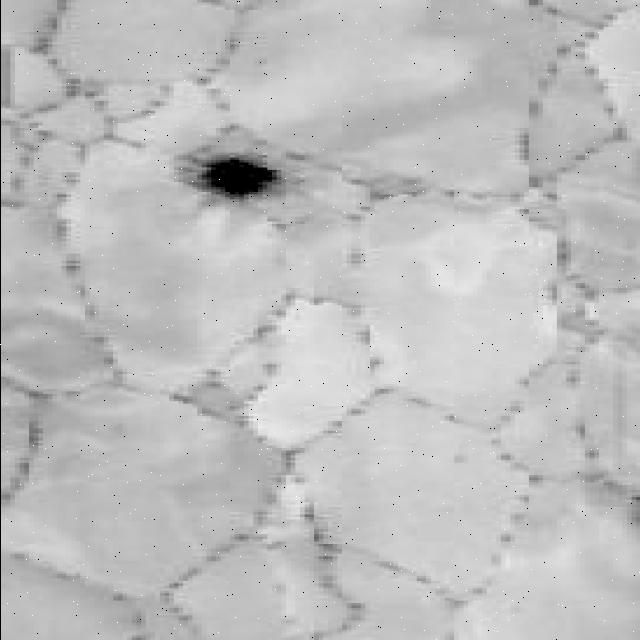good_void: (189, 154, 297, 206)
